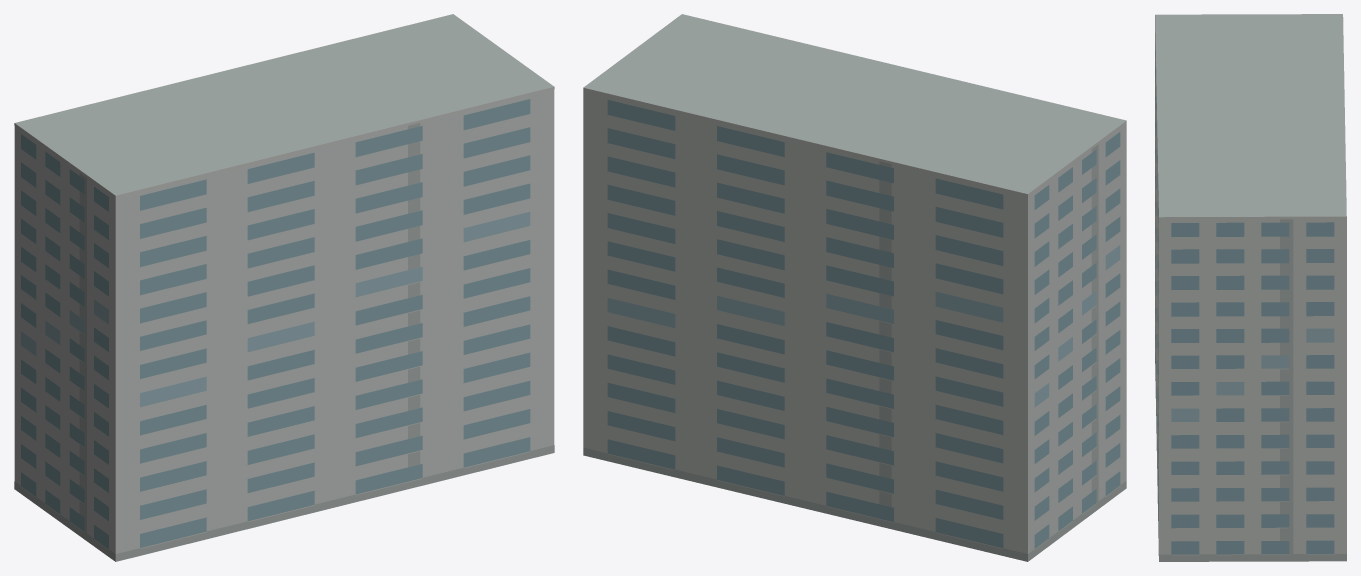
The model's file is residential-5fcee6d9-eeea-42cf-9e45-7383db6b1dca.glb.
The picture shows the model from 3 angles, left to right: view 1: azimuth 30°, elevation 25°; view 2: azimuth 150°, elevation 25°; view 3: azimuth 270°, elevation 25°; orthographic projection. The views are drawn at different scales.
Parts seen in each view (by area): view 1: residential-5fcee6d9-eeea-42cf-9e45-7383db6b1dca.tmp; view 2: residential-5fcee6d9-eeea-42cf-9e45-7383db6b1dca.tmp; view 3: residential-5fcee6d9-eeea-42cf-9e45-7383db6b1dca.tmp.
Boxes of the visible parts, x1=… form: residential-5fcee6d9-eeea-42cf-9e45-7383db6b1dca.tmp: x1=14, y1=14, x2=554, y2=561; residential-5fcee6d9-eeea-42cf-9e45-7383db6b1dca.tmp: x1=583, y1=14, x2=1126, y2=561; residential-5fcee6d9-eeea-42cf-9e45-7383db6b1dca.tmp: x1=1155, y1=14, x2=1346, y2=561.
Bounding box in the file's own units: 42.97 × 34 × 17.14.
